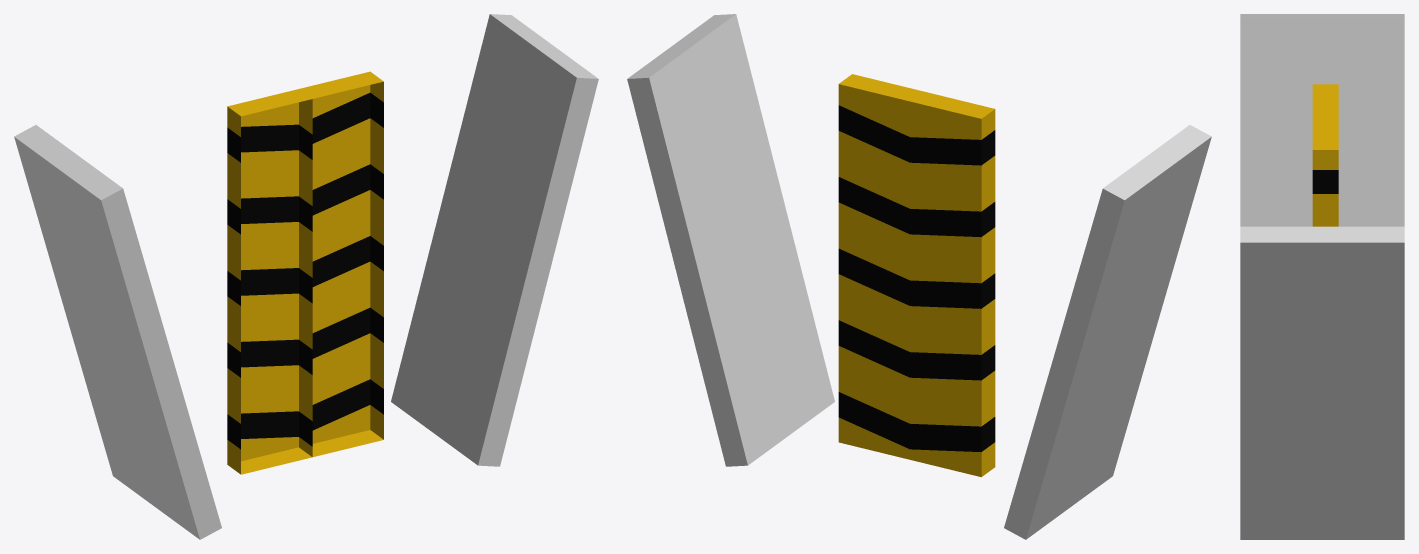
File: SideStep_Obstacle_1.fbx
3 renders of one model, left to right at view 1: azimuth 30°, elevation 25°; view 2: azimuth 150°, elevation 25°; view 3: azimuth 270°, elevation 25°, orthographic. The views are drawn at different scales.
Visible parts, largest first — view 1: pCube30; view 2: pCube30; view 3: pCube30.
Part boxes in pixels (x1,y1,x2,y2): pCube30: (14,14,598,539); pCube30: (627,14,1211,539); pCube30: (1240,14,1404,539).
Bounding box in the file's own units: 88.77 × 64.09 × 26.92.
